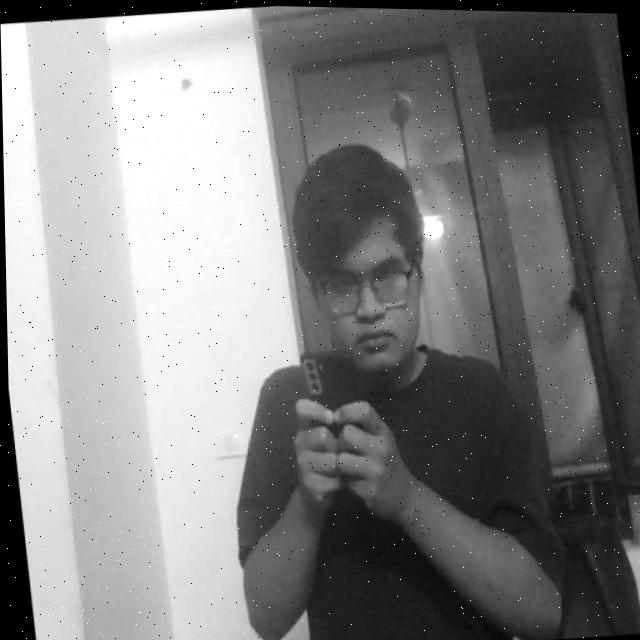phone: (287, 339, 378, 462)
